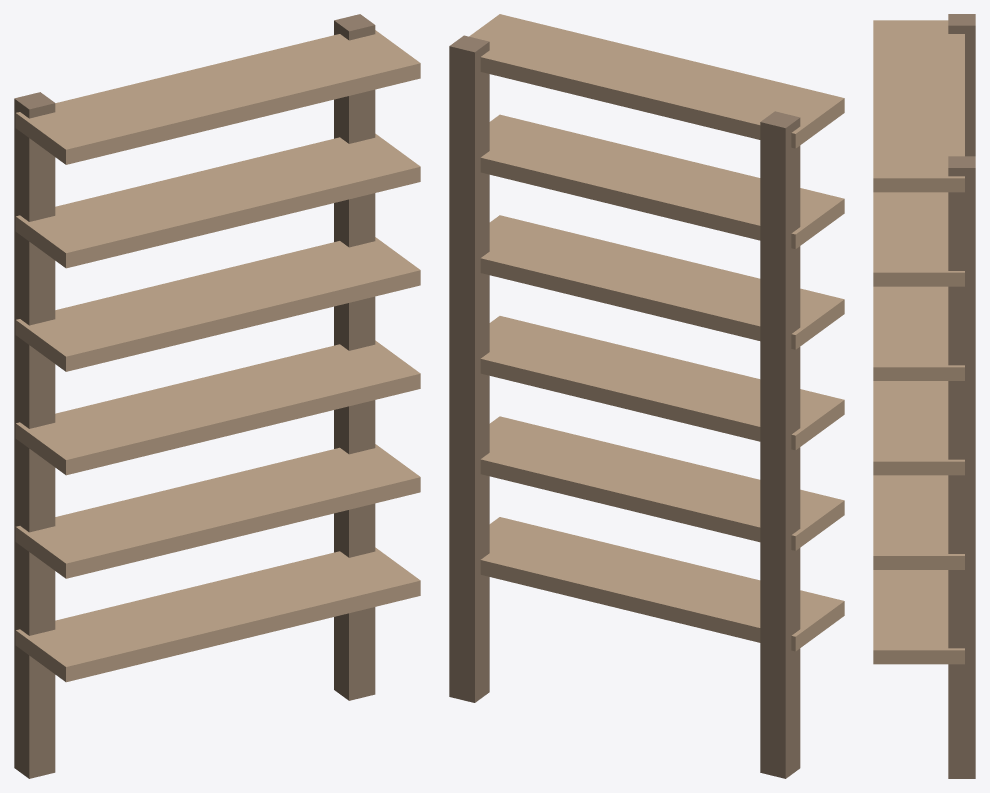
The model's file is stall-partition-grille.glb.
3 views of the same model, side by side, from view 1: azimuth 30°, elevation 25°; view 2: azimuth 150°, elevation 25°; view 3: azimuth 270°, elevation 25° (orthographic). The views are drawn at different scales.
Visible parts, largest first — view 1: stall-partition-grille; view 2: stall-partition-grille; view 3: stall-partition-grille.
Boxes of the visible parts, left/top/right/bottom form: stall-partition-grille: left=14, top=14, right=420, bottom=778; stall-partition-grille: left=449, top=14, right=844, bottom=778; stall-partition-grille: left=873, top=14, right=975, bottom=778.
Size of the model in its own units: 1.22 by 2.2 by 0.335.
